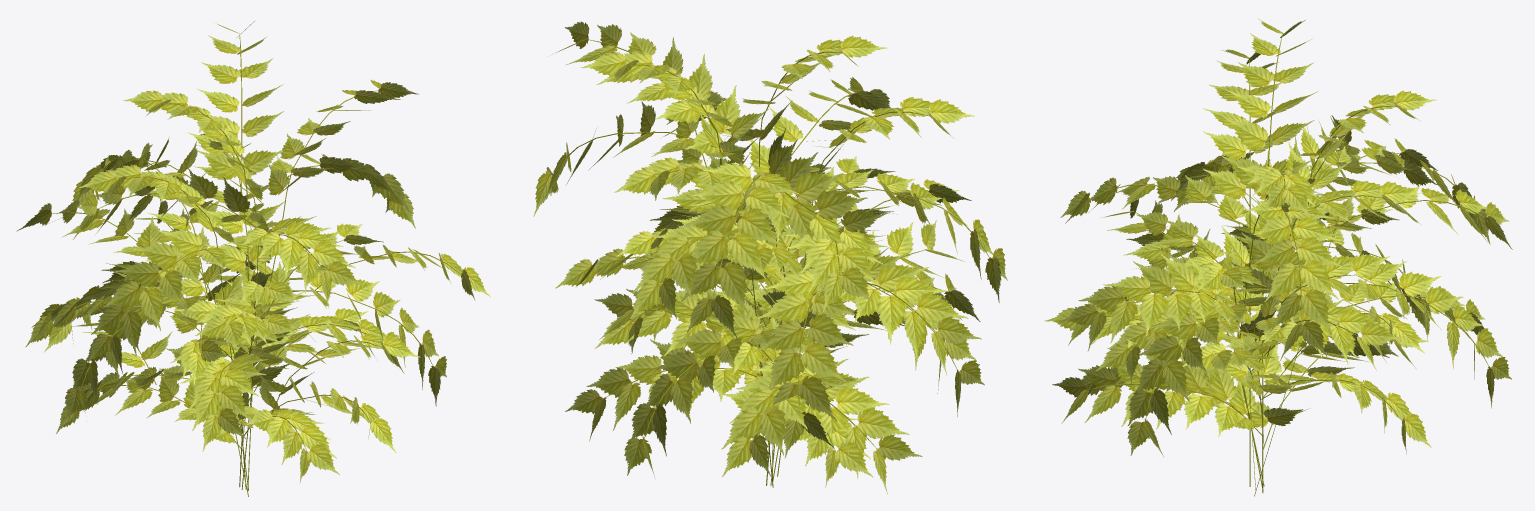
File: shiroyamabuki_nocolor.fbx
3 views of the same model, side by side, from view 1: azimuth 30°, elevation 25°; view 2: azimuth 150°, elevation 25°; view 3: azimuth 270°, elevation 25° (orthographic). The views are drawn at different scales.
Parts seen in each view (by area): view 1: k9583.012, k9583.030, k9583.011, k9583.017, k9583.015, k9583.028, k9583.035, k9583.003, k9583.038, k9583.024, k9583.010, k9583.008 (+23 smaller); view 2: k9583.025, k9583.022, k9583.023, k9583.024, k9583.009, k9583.010, k9583.029, k9583.005, k9583.036, k9583.020, k9583.018, k9583.004 (+23 smaller); view 3: k9583.038, k9583.031, k9583.035, k9583.026, k9583.003, k9583.023, k9583.030, k9583.028, k9583.032, k9583.014, k9583.018, k9583.002 (+26 smaller).
Boxes of the visible parts, x1,y1,x2,y2 form: k9583.012: (87,229,226,373); k9583.030: (226,216,363,490); k9583.011: (180,353,268,451); k9583.017: (197,21,284,193); k9583.015: (236,406,339,483); k9583.028: (78,164,248,490); k9583.035: (292,271,446,406); k9583.003: (123,90,262,210); k9583.038: (270,153,415,228); k9583.024: (73,168,257,239); k9583.010: (257,80,418,350); k9583.008: (64,286,208,420); k9583.025: (680,162,799,338); k9583.022: (754,270,854,458); k9583.023: (624,315,778,478); k9583.024: (744,127,887,263); k9583.009: (810,247,981,375); k9583.010: (550,21,773,288); k9583.029: (721,361,860,476); k9583.005: (565,330,760,441); k9583.036: (594,288,786,376); k9583.020: (803,359,922,494); k9583.018: (629,215,777,487); k9583.004: (783,233,887,312); k9583.038: (1246,199,1342,360); k9583.031: (1059,253,1235,351); k9583.035: (1127,295,1246,456); k9583.026: (1052,358,1241,436); k9583.003: (1221,18,1318,199); k9583.023: (1343,261,1511,408); k9583.030: (1060,175,1255,490); k9583.028: (1203,49,1281,486); k9583.032: (1231,122,1348,303); k9583.014: (1245,299,1402,370); k9583.018: (1254,181,1512,496); k9583.002: (1130,211,1274,360).
Bounding box in the file's own units: 91.89 × 93.86 × 93.65.
1 material, 1 textured.
